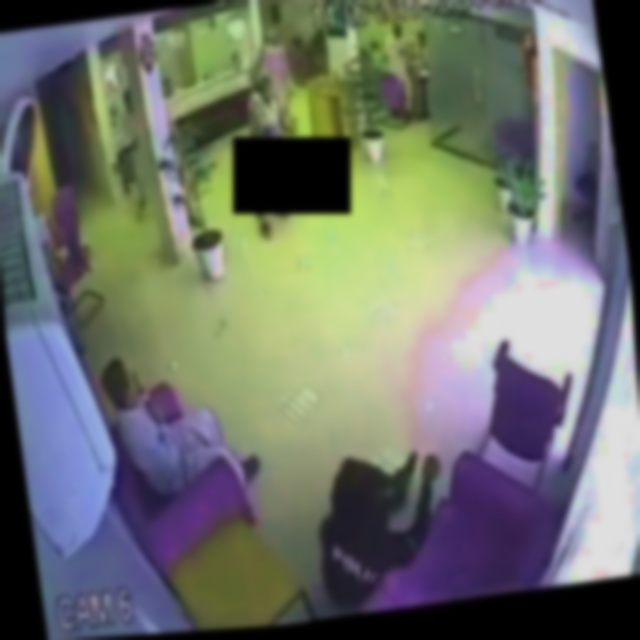gun: (261, 121, 272, 136)
